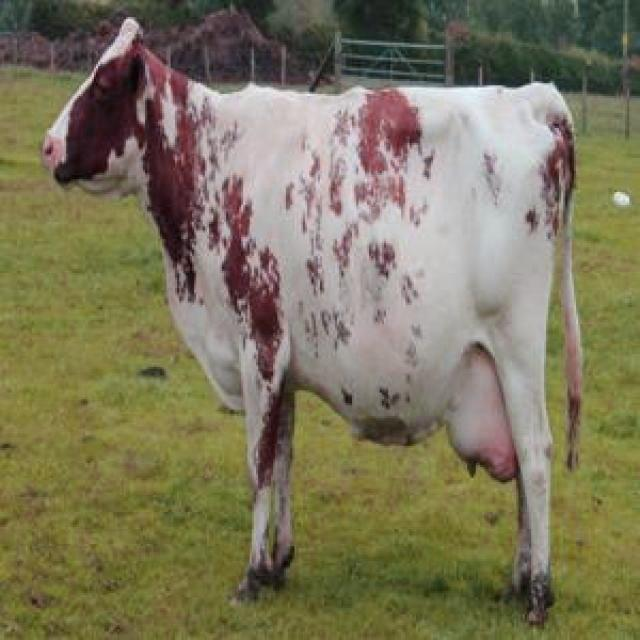cow: (42, 19, 581, 622)
